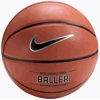basketball: (2, 2, 98, 98)
